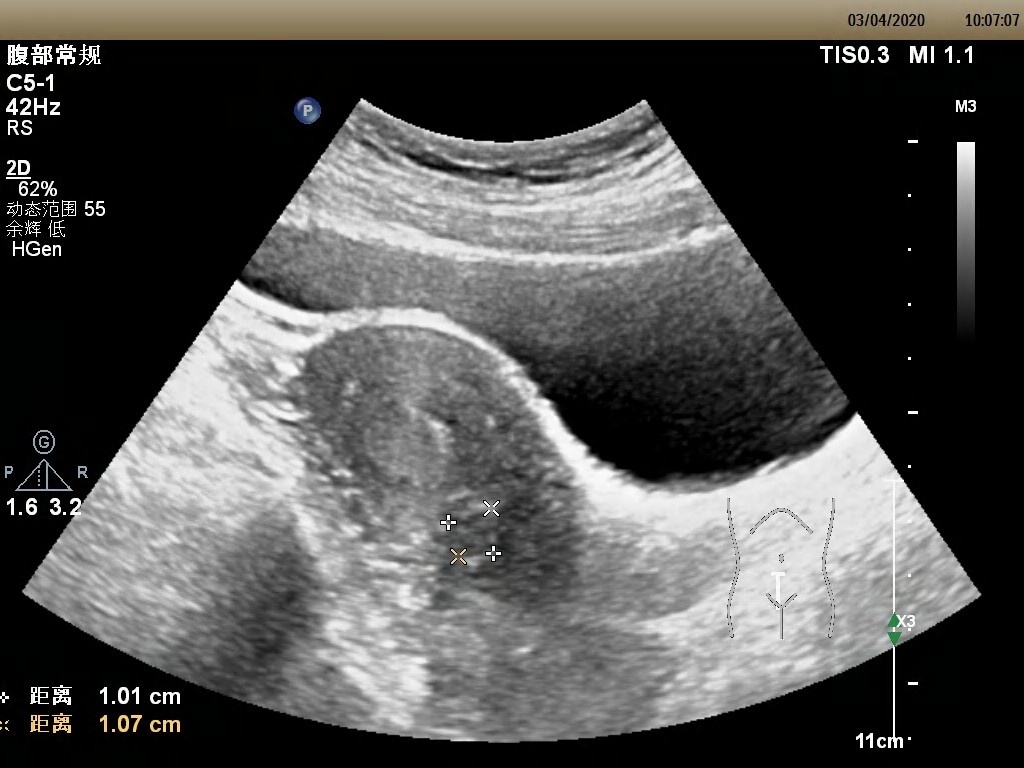肌瘤: (447, 509, 498, 560)
